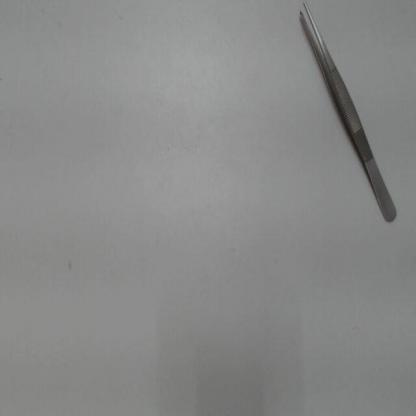Gillies Toothed Dissector: (293, 3, 401, 229)
